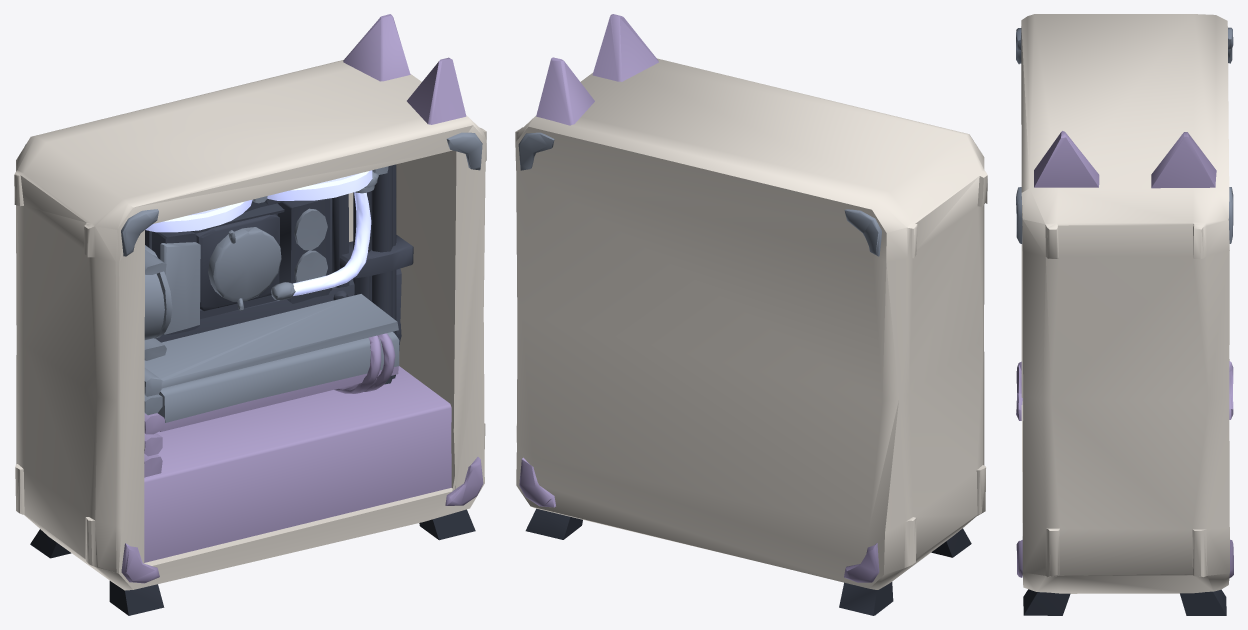
The model's file is gaming_pc.glb.
The picture shows the model from 3 angles, left to right: view 1: azimuth 30°, elevation 25°; view 2: azimuth 150°, elevation 25°; view 3: azimuth 270°, elevation 25°; orthographic projection. The views are drawn at different scales.
Size of the model in its own units: 1.02 by 1.13 by 0.4671.
